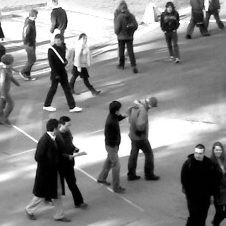person: (29, 118, 70, 222), (43, 34, 84, 111), (97, 101, 130, 192), (56, 116, 88, 209), (182, 144, 218, 226), (127, 97, 160, 181), (69, 32, 100, 96), (115, 2, 141, 73), (160, 1, 182, 64), (210, 140, 226, 225), (21, 8, 38, 81), (1, 54, 18, 127), (114, 1, 134, 60), (186, 1, 213, 37), (48, 1, 67, 47), (206, 1, 226, 33)
